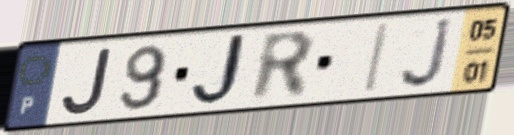9: (121, 41, 170, 113)
I: (360, 20, 394, 97)
J: (188, 30, 255, 111), (398, 15, 456, 92), (58, 45, 115, 118)
R: (249, 28, 317, 105)
